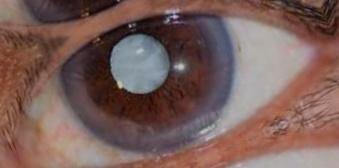eye: (70, 16, 232, 146)
